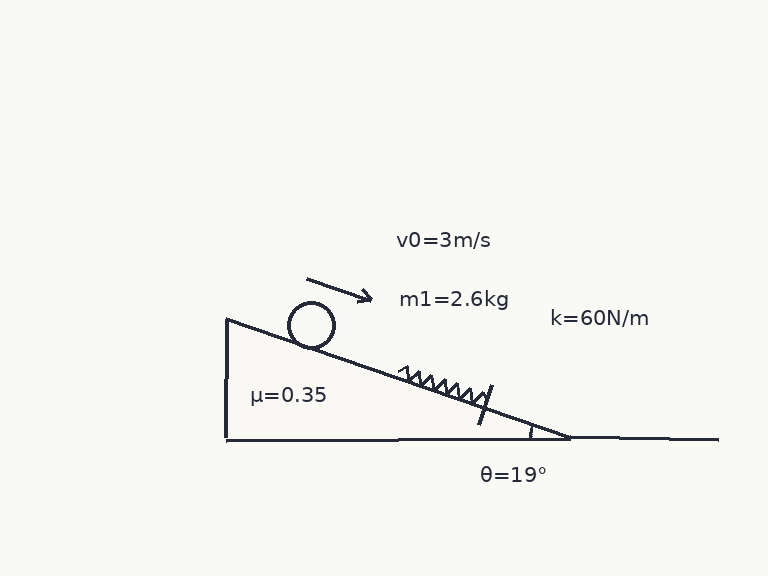ball: (285, 299, 337, 351)
ramp: (224, 318, 572, 441)
spring: (395, 364, 489, 405)
